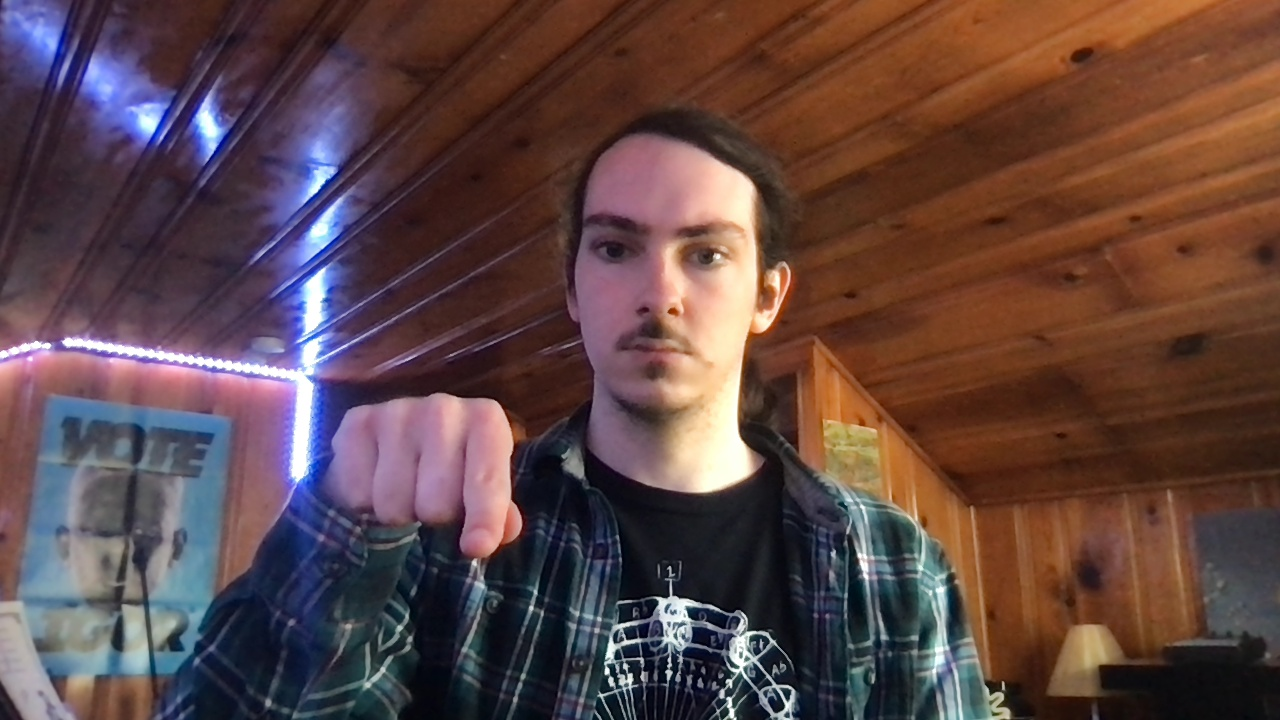q: (329, 389, 526, 562)
